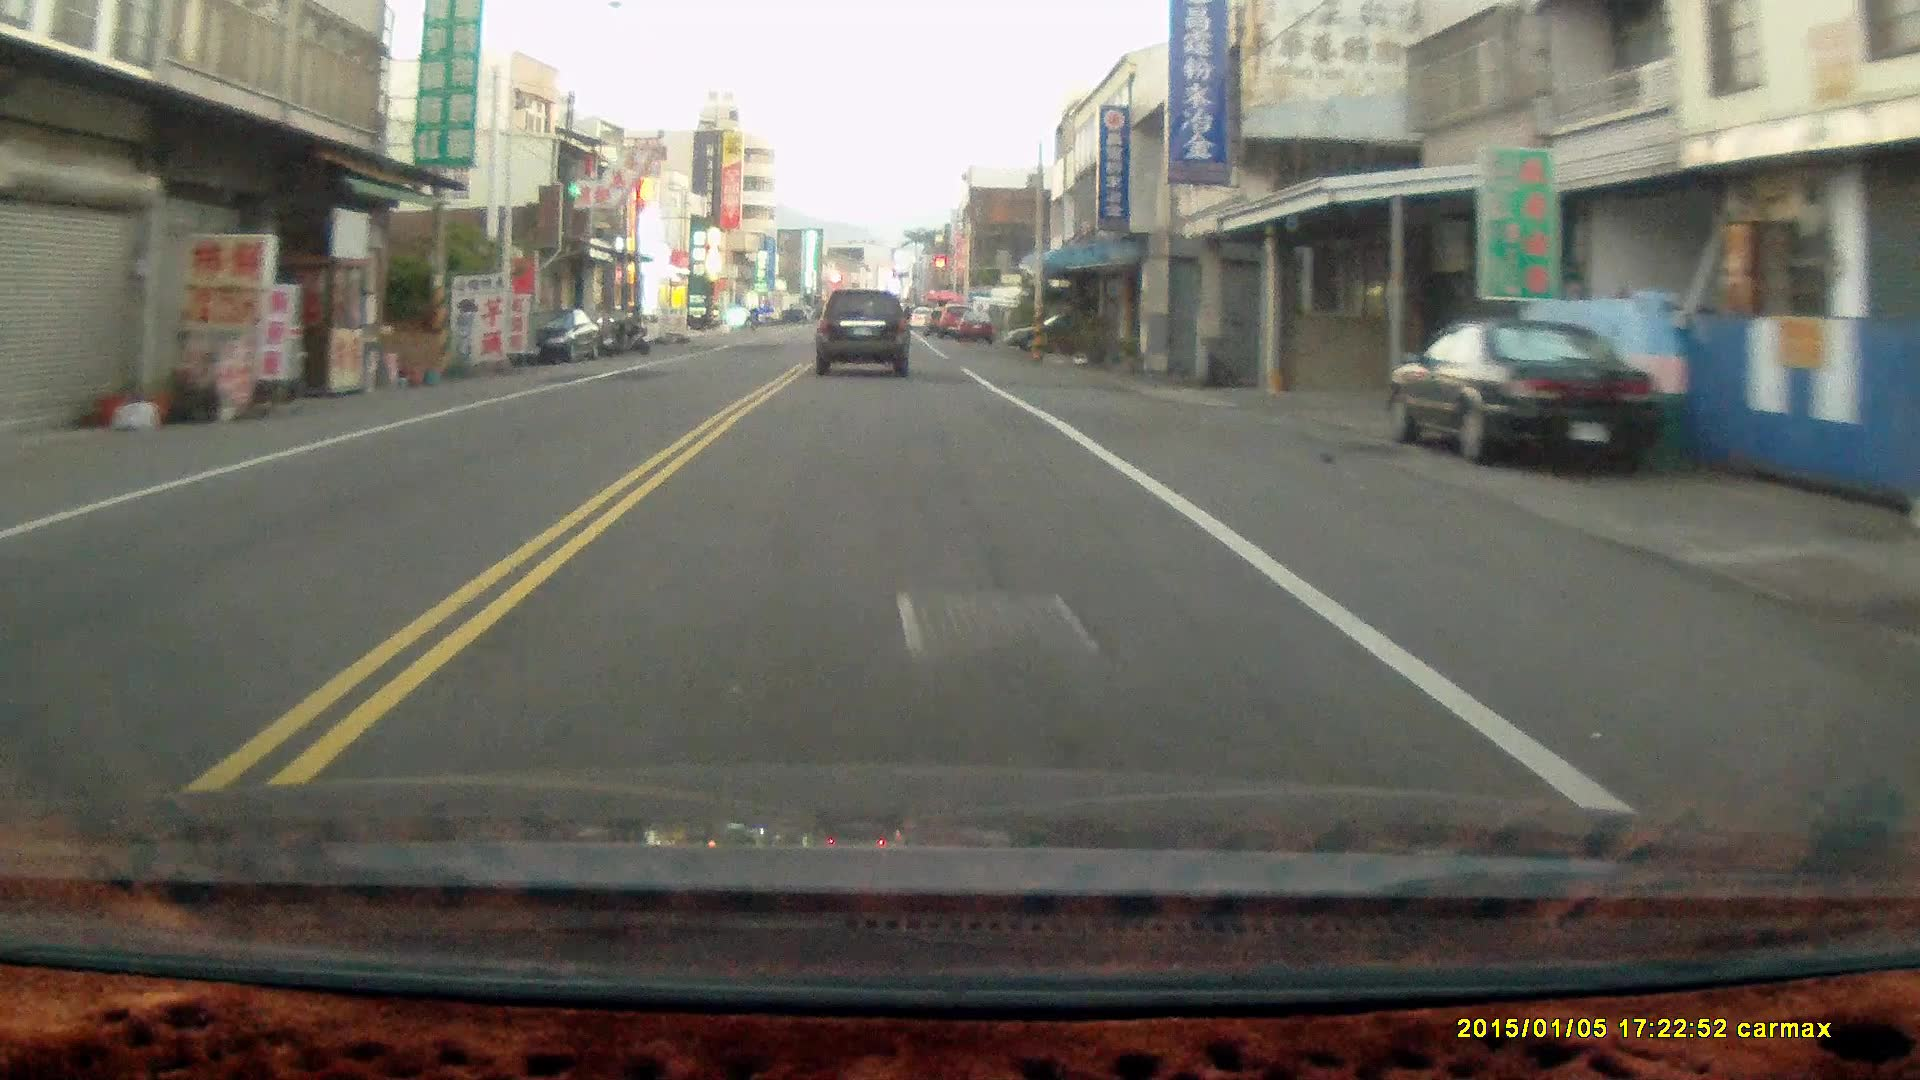vehicle: (1385, 316, 1664, 477), (814, 289, 911, 381)
